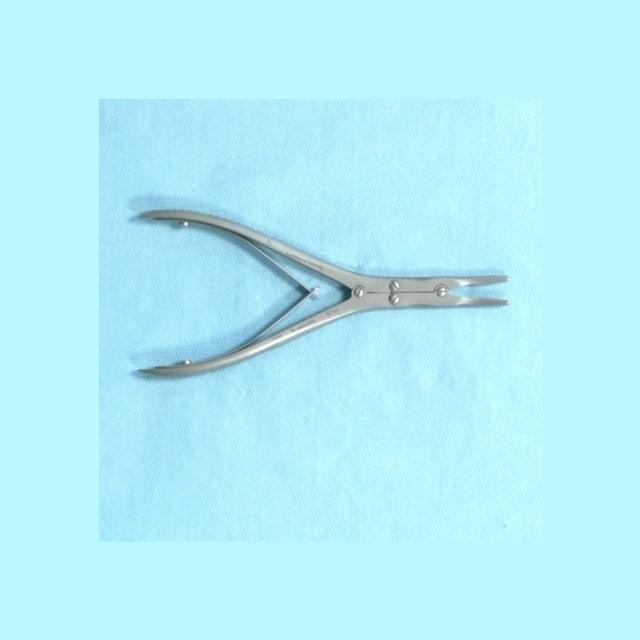gubia: (130, 201, 510, 383)
